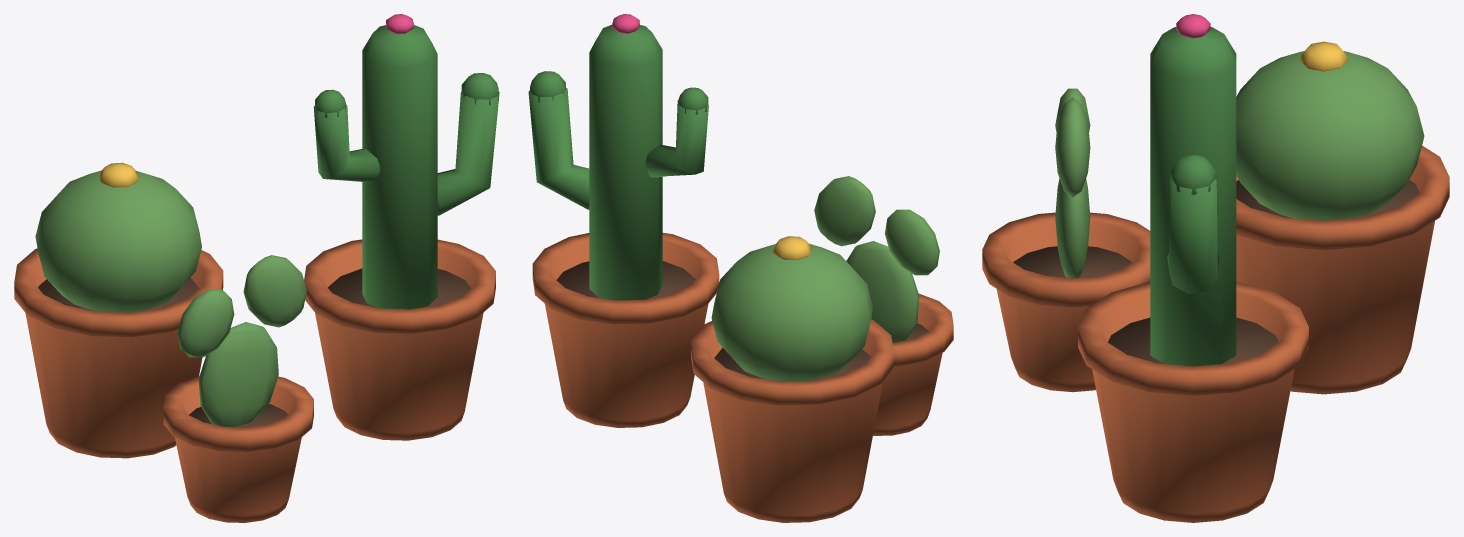
The model's file is cacti.glb.
3 views of the same model, side by side, from view 1: azimuth 30°, elevation 25°; view 2: azimuth 150°, elevation 25°; view 3: azimuth 270°, elevation 25° (orthographic). The views are drawn at different scales.
Visible parts, largest first — view 1: cacti; view 2: cacti; view 3: cacti.
Boxes of the visible parts, box(x1,y1,x2,y2) form: cacti: box(14, 14, 499, 522); cacti: box(528, 14, 953, 522); cacti: box(982, 14, 1449, 522).
Bounding box in the file's own units: 0.5681 × 0.5208 × 0.465.
